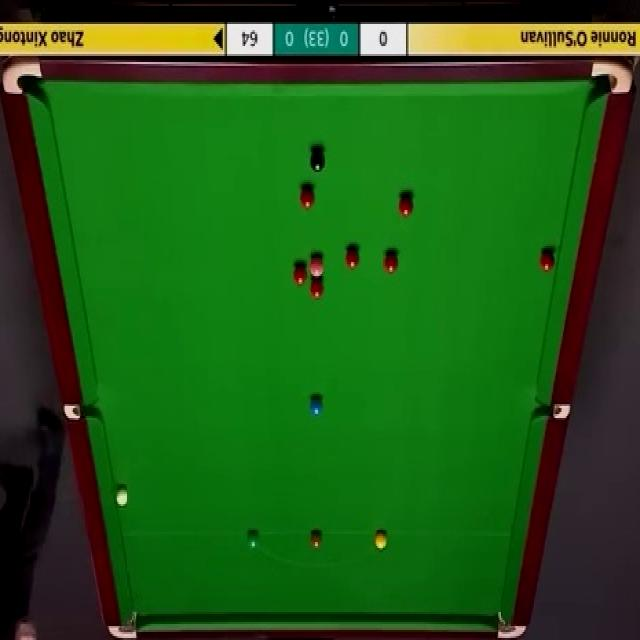pocket: (3, 56, 42, 101), (590, 58, 634, 96), (495, 608, 529, 640), (108, 608, 140, 640), (64, 405, 105, 423), (535, 406, 572, 420)
